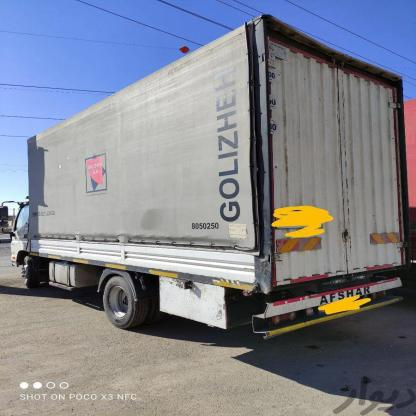Truck: (0, 9, 416, 341)
